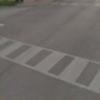crosswalks: (0, 34, 100, 96)
